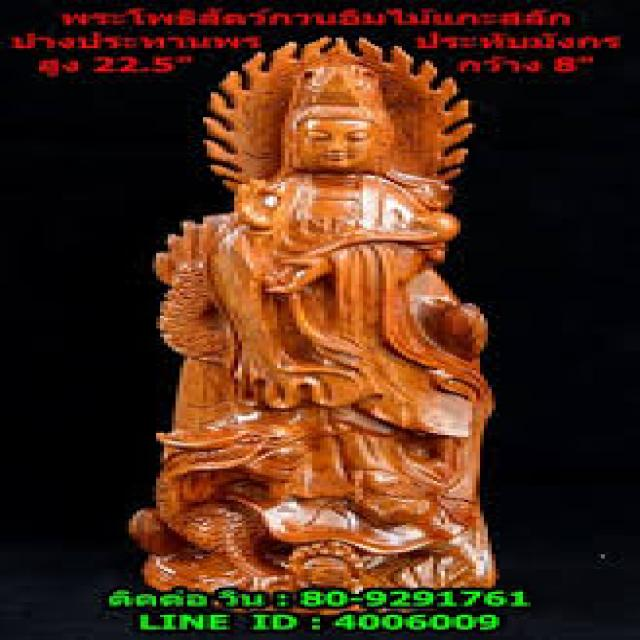Guan Yin: (214, 65, 446, 358)
